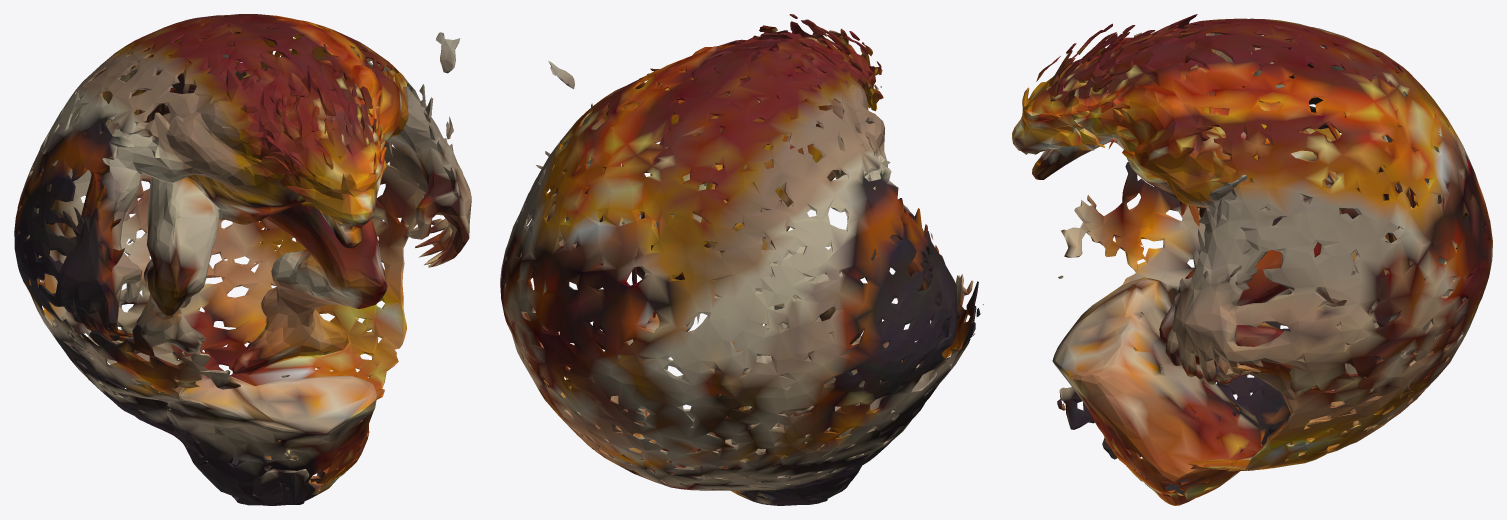
Rendered from mermaidWarrior.glb.
The picture shows the model from 3 angles, left to right: view 1: azimuth 30°, elevation 25°; view 2: azimuth 150°, elevation 25°; view 3: azimuth 270°, elevation 25°; orthographic projection. The views are drawn at different scales.
Parts seen in each view (by area): view 1: world; view 2: world; view 3: world.
Part boxes in pixels (bbox=[...]): world: bbox=[14, 14, 471, 505]; world: bbox=[500, 14, 983, 505]; world: bbox=[1012, 14, 1492, 505].
Size of the model in its own units: 0.9642 by 1 by 0.9551.
